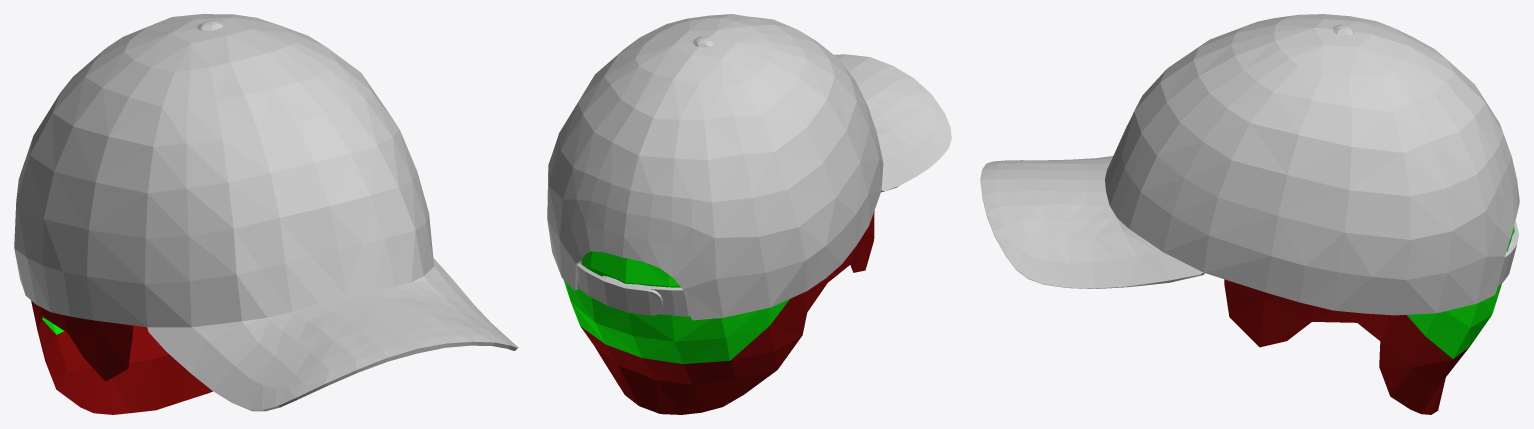
File: BaseballHat_Hair_03.obj
3 renders of one model, left to right at view 1: azimuth 30°, elevation 25°; view 2: azimuth 150°, elevation 25°; view 3: azimuth 270°, elevation 25°, orthographic. The views are drawn at different scales.
Bounding box in the file's own units: 17.25 × 20.91 × 27.28.
